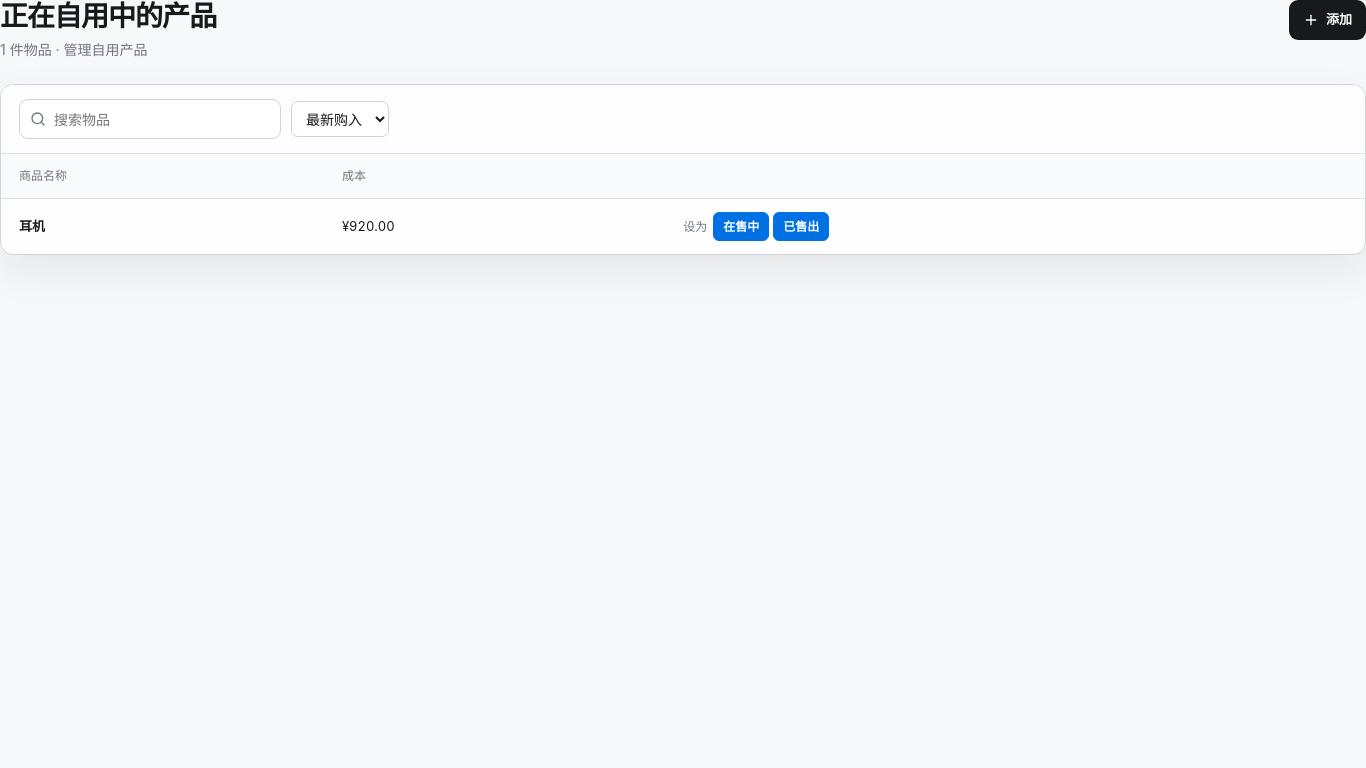
Test case: SelfUsePage › removes a record after sale confirmation succeeds
Click the button with aria-label "设置 耳机 为已售出".
click(801, 226)  # box [773,212,829,241]
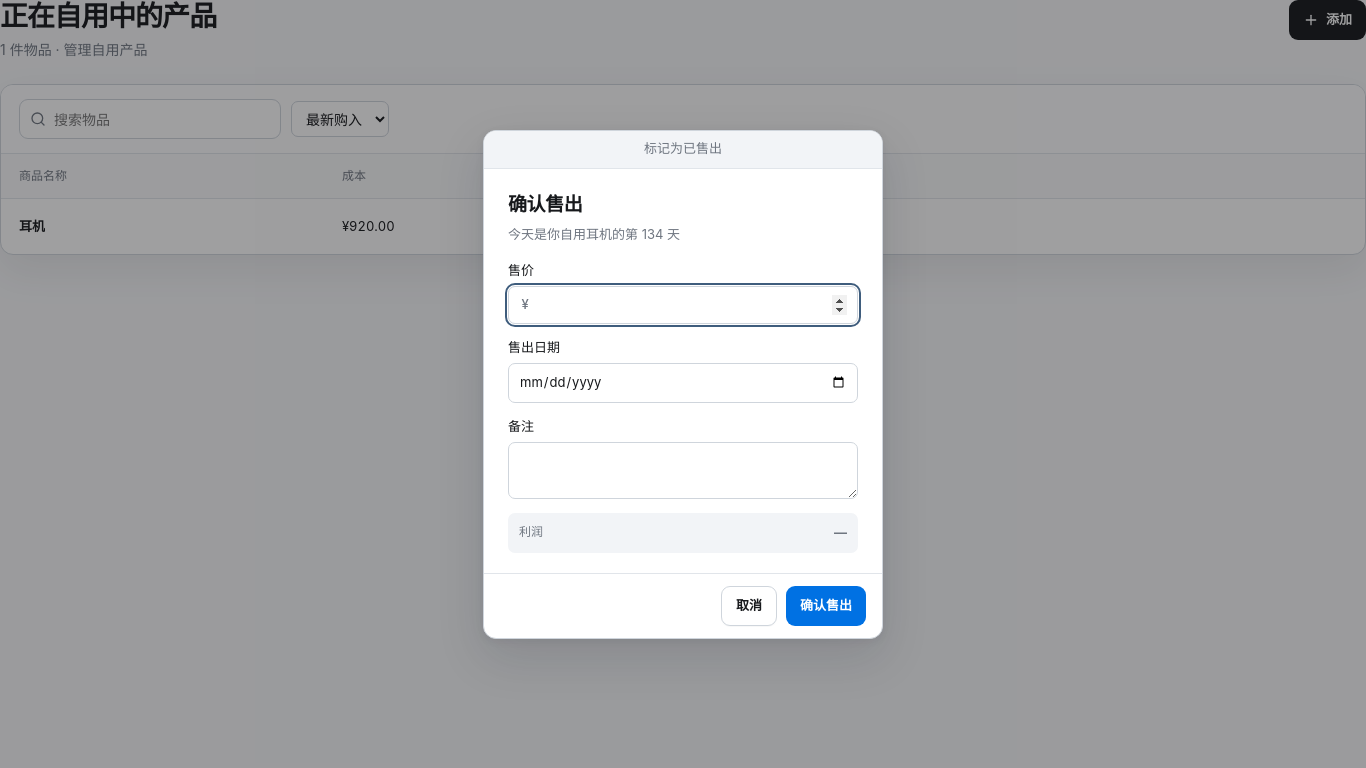
Type "2026-06-20" into the date field labelled "售出日期".
click(683, 383); type("2026-06-20")  # box [508,363,858,402]
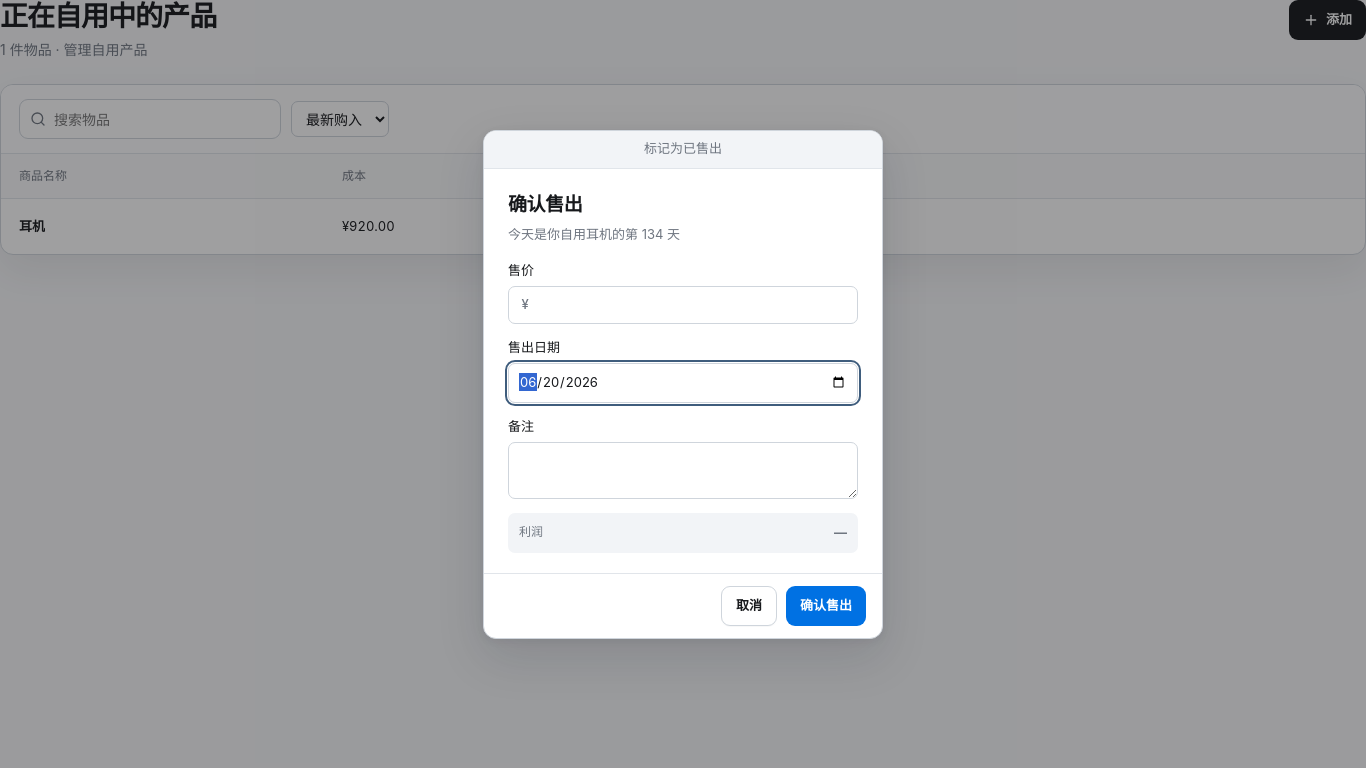
Type "1200" into the number field labelled "售价".
click(693, 305); type("1200")  # box [539,287,847,322]
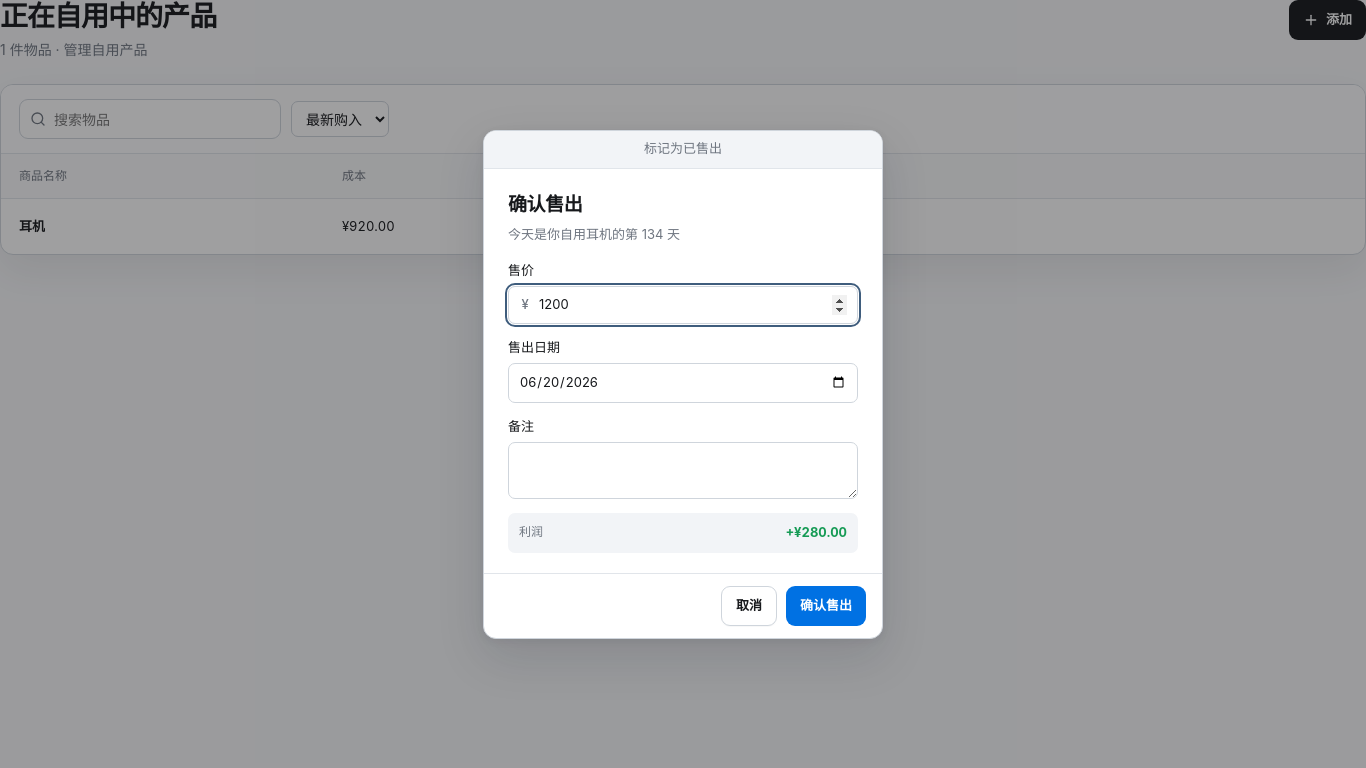
Click the button "确认售出".
click(826, 606)  # box [786,586,866,626]
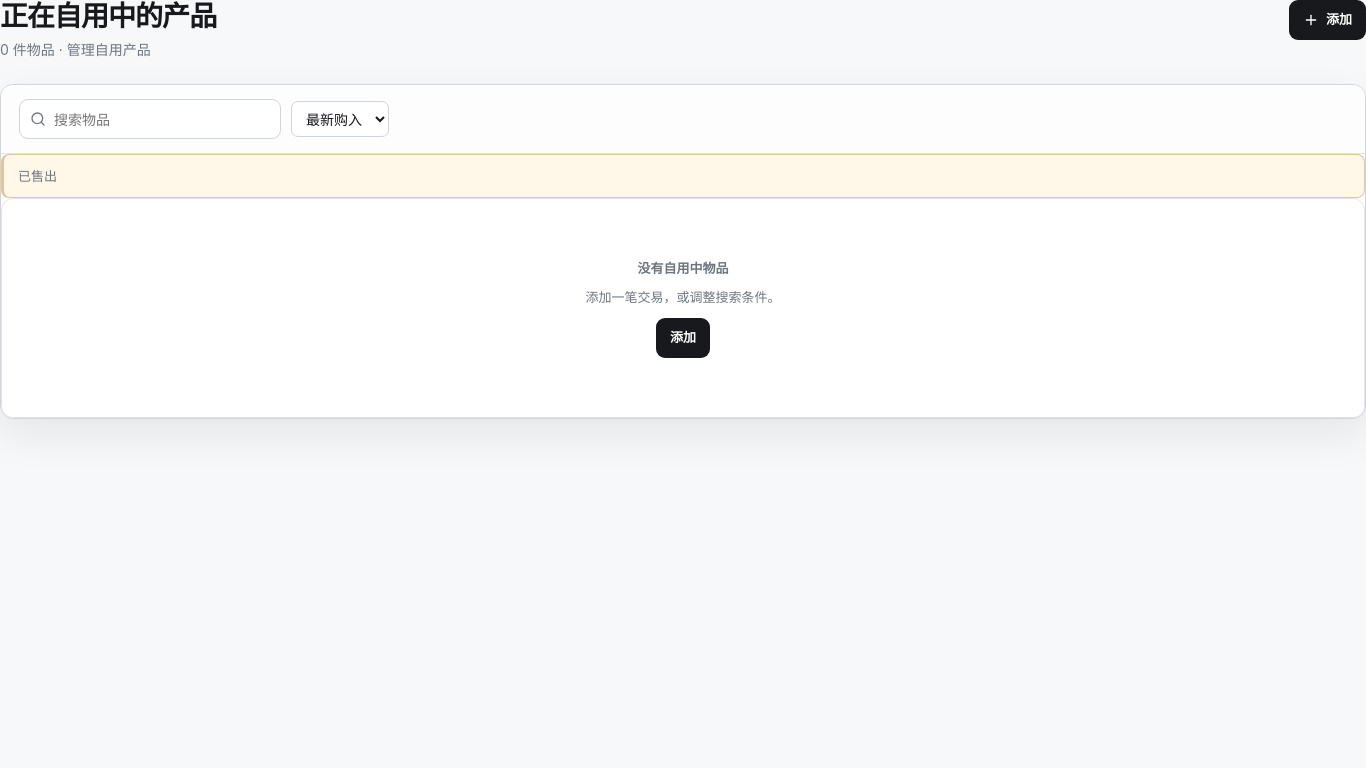
Now the button "耳机" is gone
